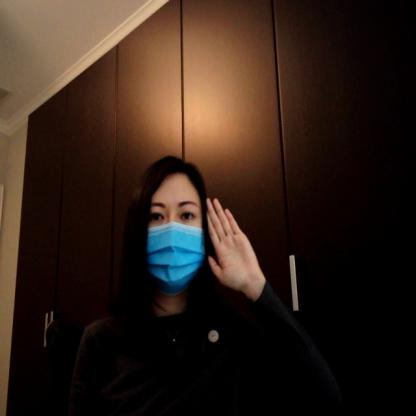hello: (204, 190, 266, 300)
